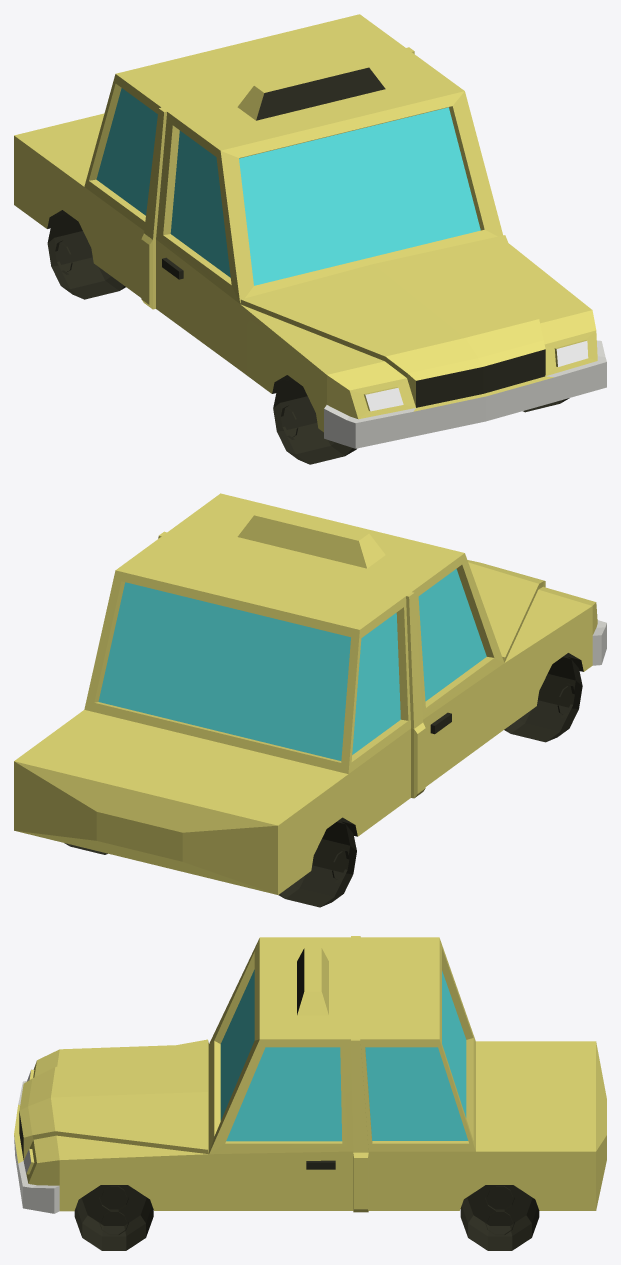
File: taxi1.fbx
3 views of the same model, one above another, from view 1: azimuth 30°, elevation 25°; view 2: azimuth 150°, elevation 25°; view 3: azimuth 270°, elevation 25° (orthographic). The views are drawn at different scales.
Parts seen in each view (by area): view 1: Taxi; view 2: Taxi; view 3: Taxi.
Boxes of the visible parts, box(x1,y1,x2,y2) form: Taxi: box(14, 14, 606, 464); Taxi: box(14, 493, 606, 907); Taxi: box(14, 936, 606, 1250).
Bounding box in the file's own units: 31.2 × 28.72 × 67.47.
Materials: 1 (1 with a texture image).
